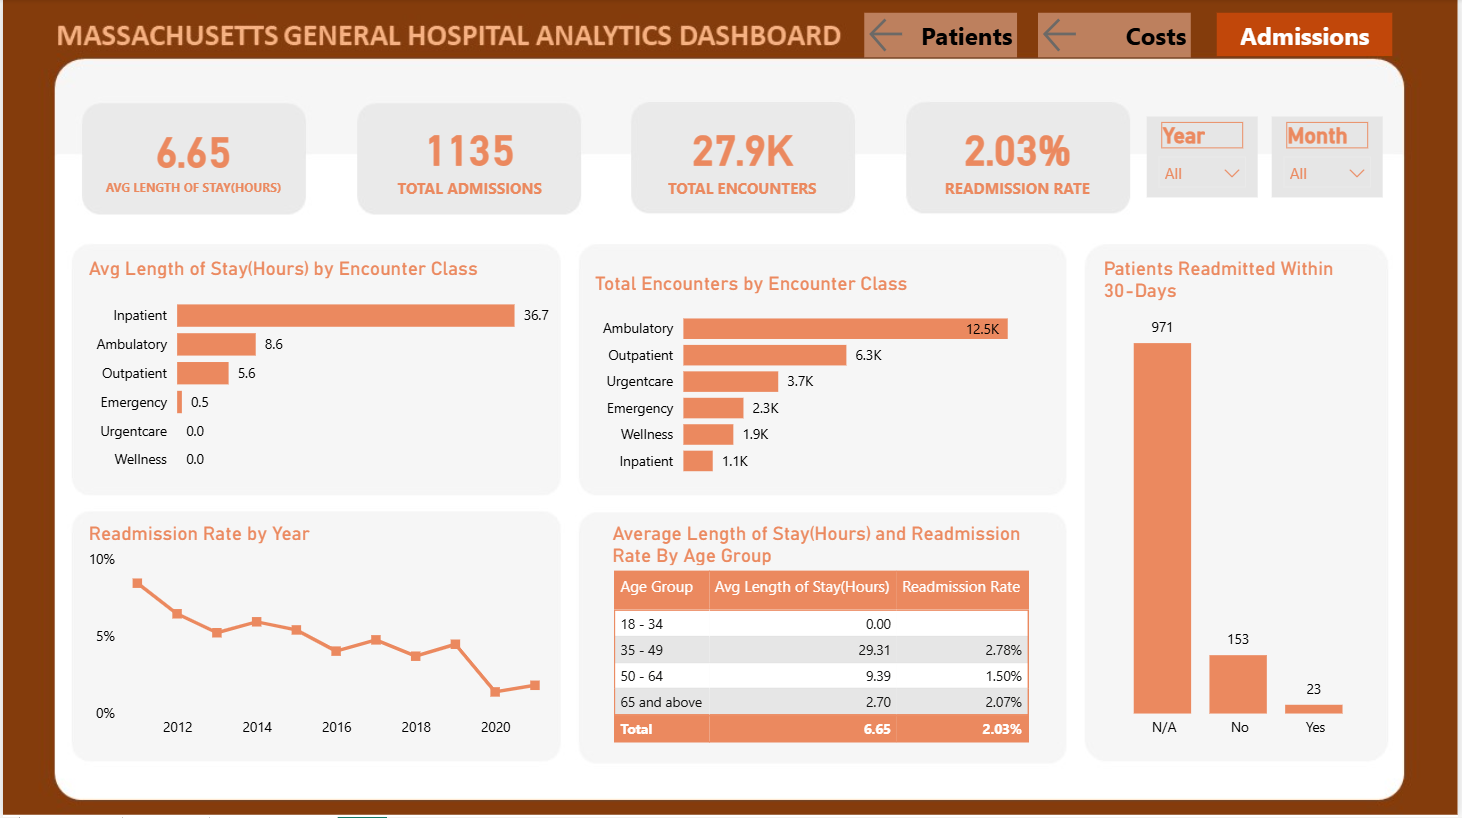

Layout of this report page (visuals, bound fields, positions):
{"tool":"powerbi","page":{"name":"Admissions","canvas":[1280,720],"ordinal":2},"visuals":[{"type":"card","fields":{"Values":["encounters.Readmission Rate"]},"box":[805.5,97.4,172.9,82.3],"z":0},{"type":"card","fields":{"Values":["encounters.Total Admission"]},"box":[323.8,97.4,172.9,82.3],"z":1000},{"type":"card","fields":{"Values":["encounters.Total Encounters"]},"box":[564,97.4,172.9,82.3],"z":2000},{"type":"card","fields":{"Values":["encounters.Avg Length of Stay(Hours)"]},"box":[81,97.4,172.9,82.3],"z":3000},{"type":"clusteredBarChart","title":"Avg Length of Stay(Hours) by Encounter Class","fields":{"Category":["encounters.ENCOUNTER_CLASS"],"Y":["encounters.Avg Length of Stay"]},"box":[70,226.4,415.8,204.5],"z":4000},{"type":"clusteredBarChart","title":"Total Encounters by Encounter Class","fields":{"Category":["encounters.ENCOUNTER_CLASS"],"Y":["encounters.Total Encounters"]},"box":[516,240.1,410.3,190.7],"z":5000},{"type":"lineChart","fields":{"Y":["encounters.Readmission Rate"],"Category":["encounters.ENCOUNTER_START.Variation.Date Hierarchy.Year"]},"box":[70,459.7,415.8,199],"z":6000},{"type":"clusteredColumnChart","title":"Patients Readmitted Within 30-Days","fields":{"Category":["encounters.30-Days Readmit Flag"],"Y":["Count(encounters.PATIENT_ID)"]},"box":[963.3,226.4,249.7,432.2],"z":7000},{"type":"tableEx","title":"Average Length of Stay(Hours) and Readmission Rate By Age Group","fields":{"Values":["patients.Age Group","encounters.Avg Length of Stay(Hours)","encounters.Readmission Rate"]},"box":[531,459.7,382.8,209.9],"z":8000},{"type":"slicer","fields":{"Values":["encounters.Year"]},"box":[1005.8,102.9,97.4,71.4],"z":9000},{"type":"slicer","fields":{"Values":["encounters.Month"]},"box":[1115.6,102.9,97.4,71.4],"z":10000},{"type":"actionButton","box":[891.9,4.1,134.5,39.8],"z":11000},{"type":"actionButton","box":[1078.6,4.1,134.5,39.8],"z":12000}]}

Visuals, with their boxes in screenshot pixels (x1, y1, x2, y2), scaled from the page's 1280x720 canvas onto the 1462x818 screenshot:
card - encounters.Readmission Rate: rect(920, 111, 1118, 204)
card - encounters.Total Admission: rect(370, 111, 567, 204)
card - encounters.Total Encounters: rect(644, 111, 842, 204)
card - encounters.Avg Length of Stay(Hours): rect(93, 111, 290, 204)
"Avg Length of Stay(Hours) by Encounter Class" clusteredBarChart: rect(80, 257, 555, 490)
"Total Encounters by Encounter Class" clusteredBarChart: rect(589, 273, 1058, 489)
lineChart - encounters.Readmission Rate x encounters.ENCOUNTER_START.Variation.Date Hierarchy.Year: rect(80, 522, 555, 748)
"Patients Readmitted Within 30-Days" clusteredColumnChart: rect(1100, 257, 1385, 748)
"Average Length of Stay(Hours) and Readmission Rate By Age Group" tableEx: rect(607, 522, 1044, 761)
slicer - encounters.Year: rect(1149, 117, 1260, 198)
slicer - encounters.Month: rect(1274, 117, 1385, 198)
actionButton: rect(1019, 5, 1172, 50)
actionButton: rect(1232, 5, 1386, 50)
